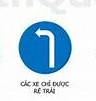Turn_left: (17, 21, 73, 75)
